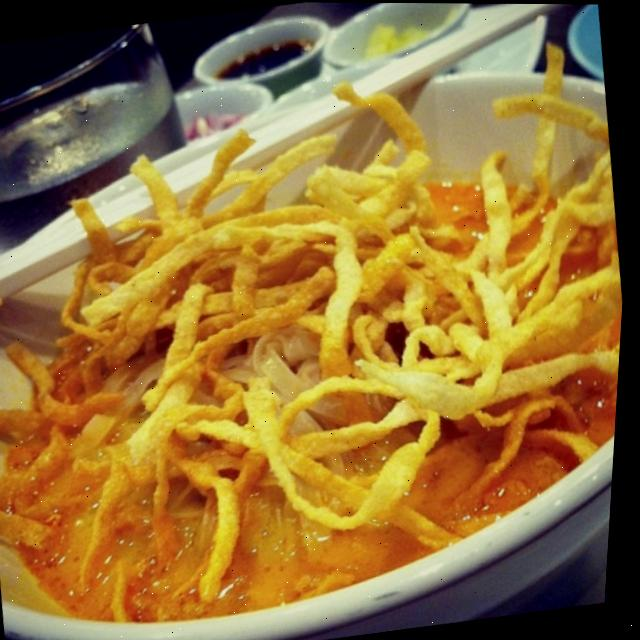面条主食: (0, 7, 640, 640)
